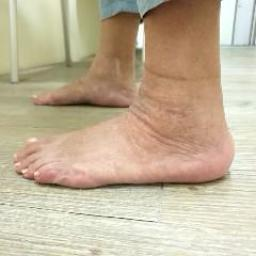Lateral View -Left Foot-: (2, 84, 252, 204)
